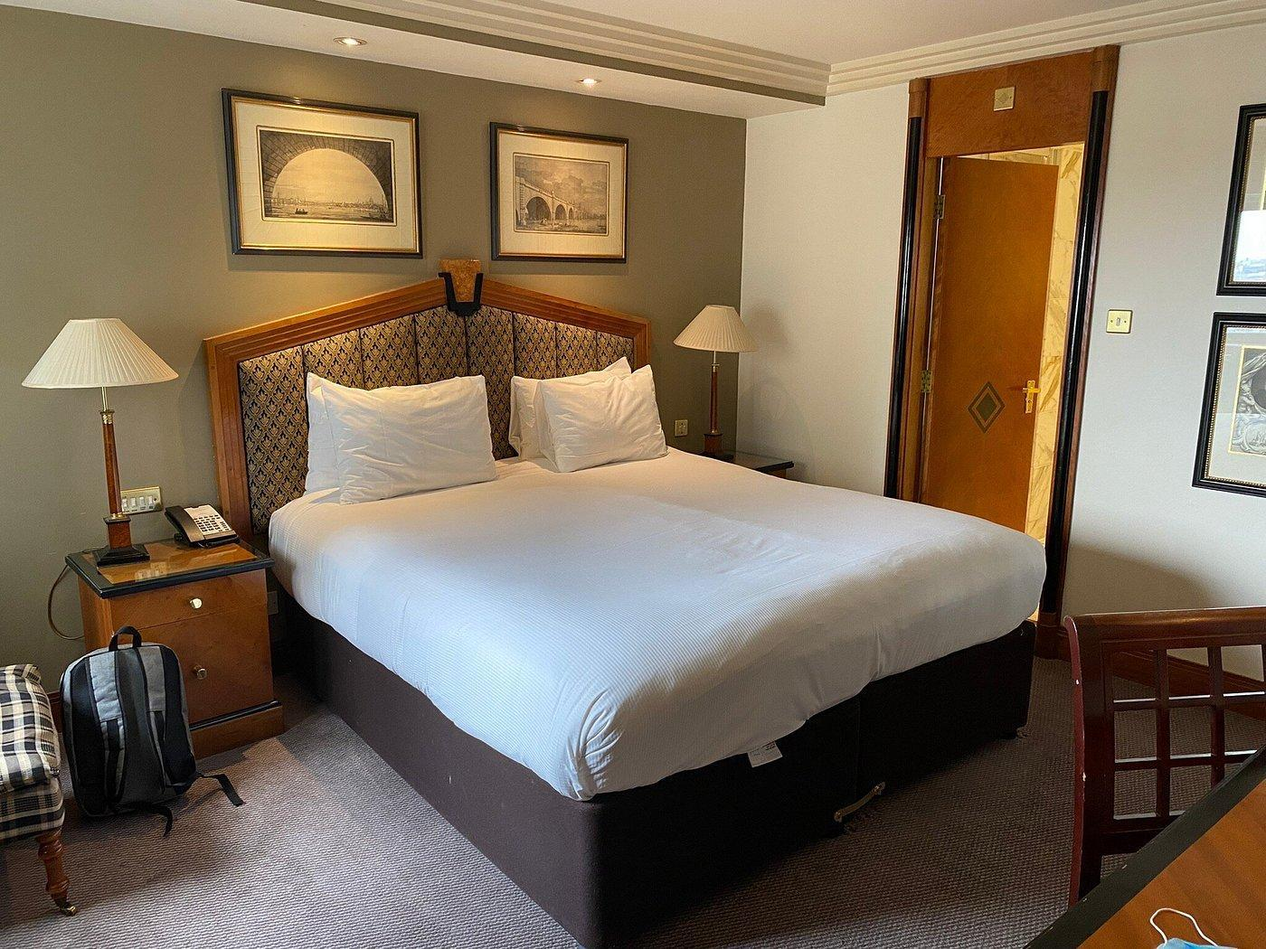clean_bed: (262, 348, 1052, 838)
lamp: (39, 318, 179, 575), (686, 303, 760, 446)
organised_pillow: (315, 380, 496, 496), (511, 378, 672, 464)
